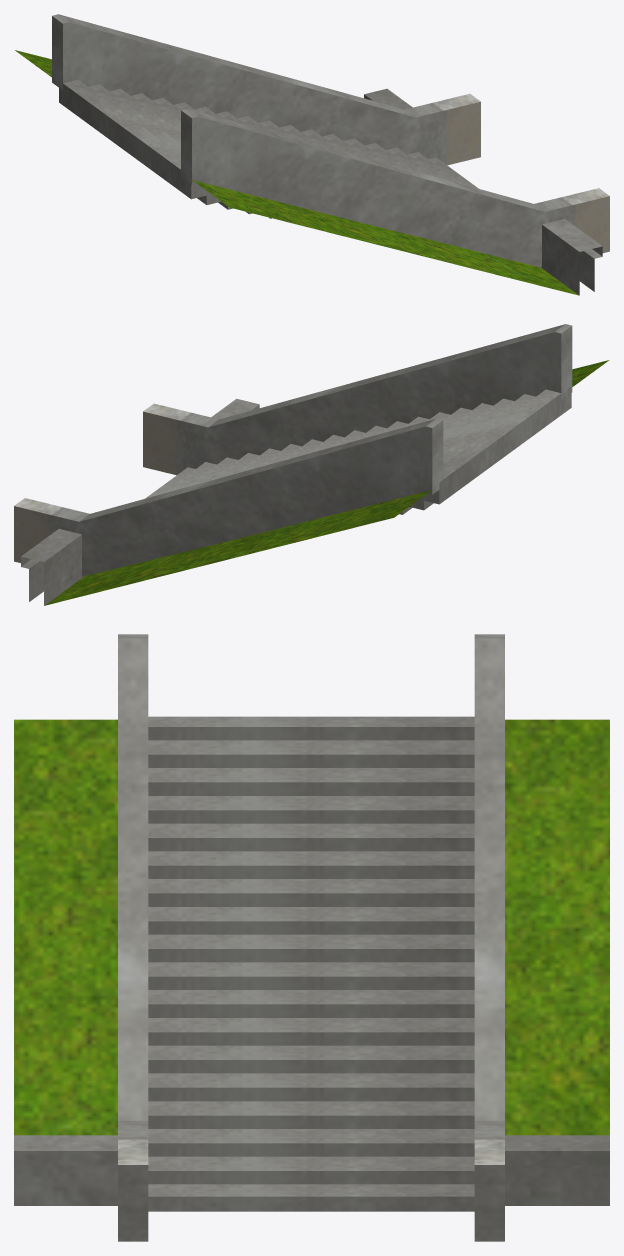
Rendered from PlatoStairs.fbx.
3 renders of one model, top to bottom at view 1: azimuth 30°, elevation 25°; view 2: azimuth 150°, elevation 25°; view 3: azimuth 270°, elevation 25°, orthographic. The views are drawn at different scales.
Visible parts, largest first — view 1: PlatoStairs; view 2: PlatoStairs; view 3: PlatoStairs.
Part boxes in pixels (x1,y1,x2,y2): PlatoStairs: [15, 14, 609, 295]; PlatoStairs: [14, 324, 609, 605]; PlatoStairs: [14, 634, 609, 1241].
Size of the model in its own units: 900 by 1008 by 542.
